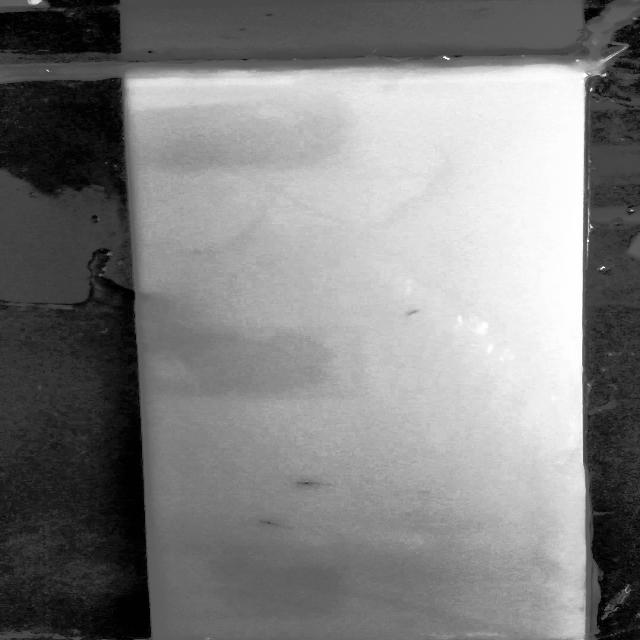shrimp: (251, 513, 294, 531), (397, 302, 429, 320), (292, 478, 336, 489)
